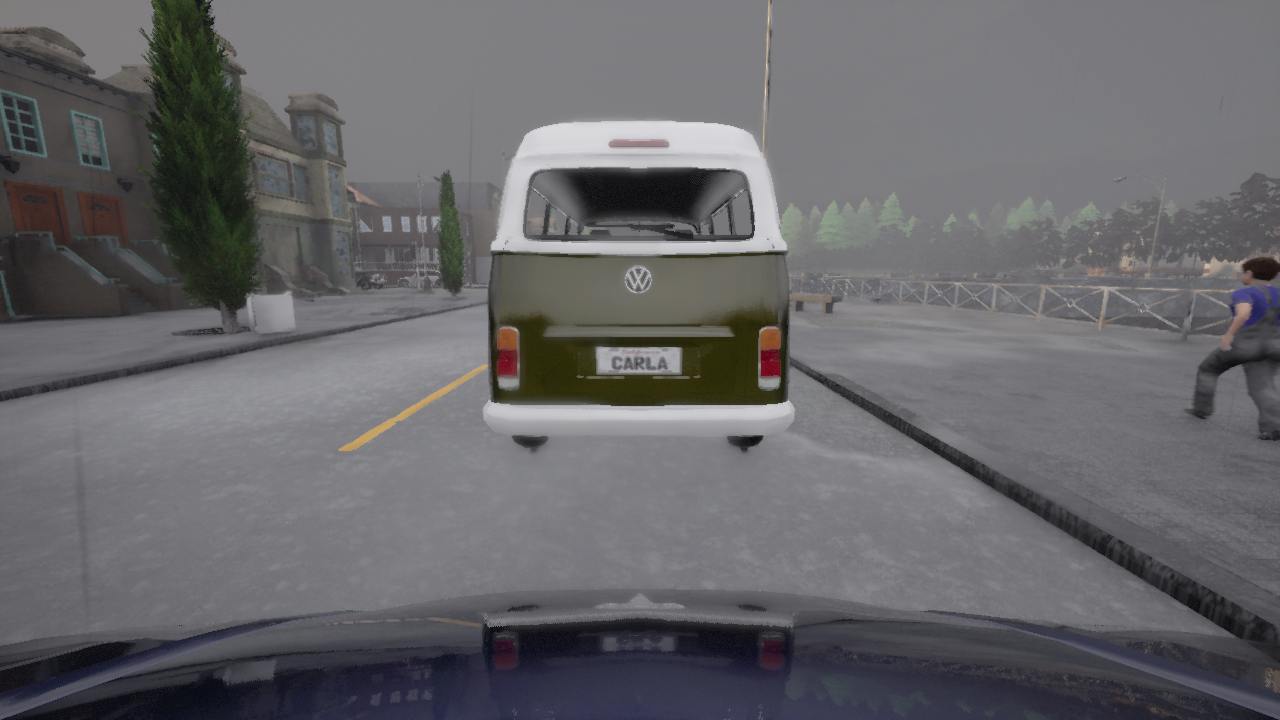cyclist: (0, 588, 1279, 719), (483, 122, 794, 446), (397, 270, 445, 288), (354, 264, 387, 289), (1002, 267, 1058, 278)
pedestrian: (1183, 256, 1279, 441), (360, 273, 368, 291), (462, 265, 468, 285)
